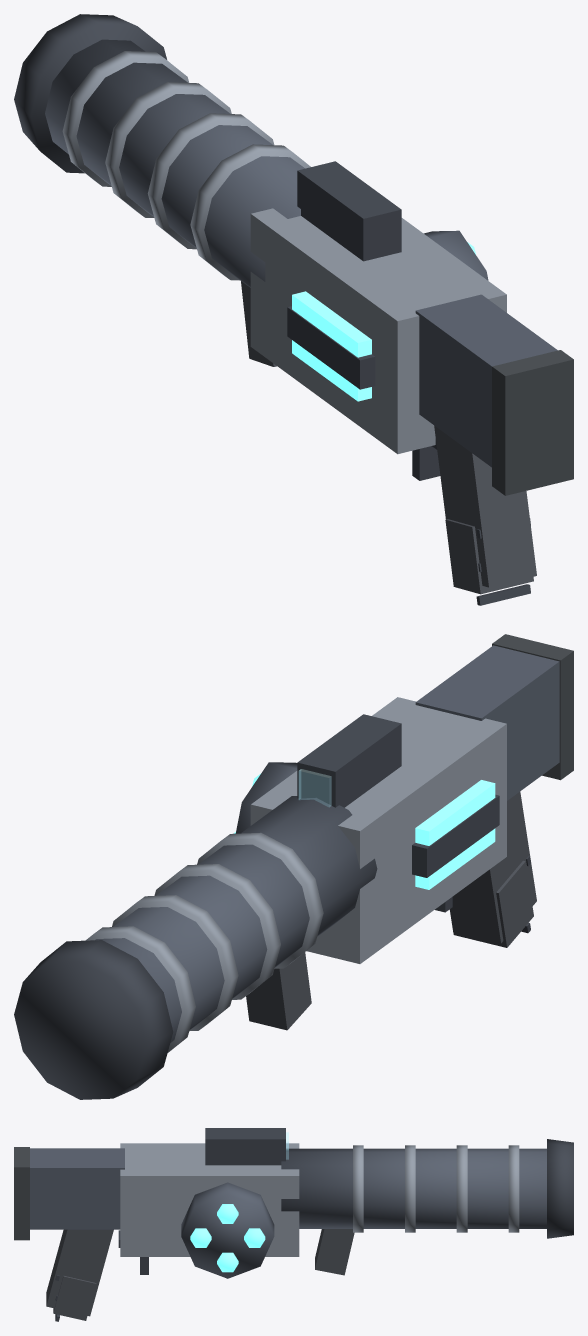
Rendered from wpn_arc_launcher.glb.
3 renders of one model, top to bottom at view 1: azimuth 30°, elevation 25°; view 2: azimuth 150°, elevation 25°; view 3: azimuth 270°, elevation 25°, orthographic. The views are drawn at different scales.
Visible parts, largest first — view 1: wpn_arc_launcher; view 2: wpn_arc_launcher; view 3: wpn_arc_launcher.
Part boxes in pixels (x1=…): wpn_arc_launcher: x1=14, y1=14, x2=573, y2=605; wpn_arc_launcher: x1=14, y1=634, x2=573, y2=1099; wpn_arc_launcher: x1=14, y1=1128, x2=573, y2=1321.
Bounding box in the file's own units: 0.139 × 0.2228 × 0.626.
